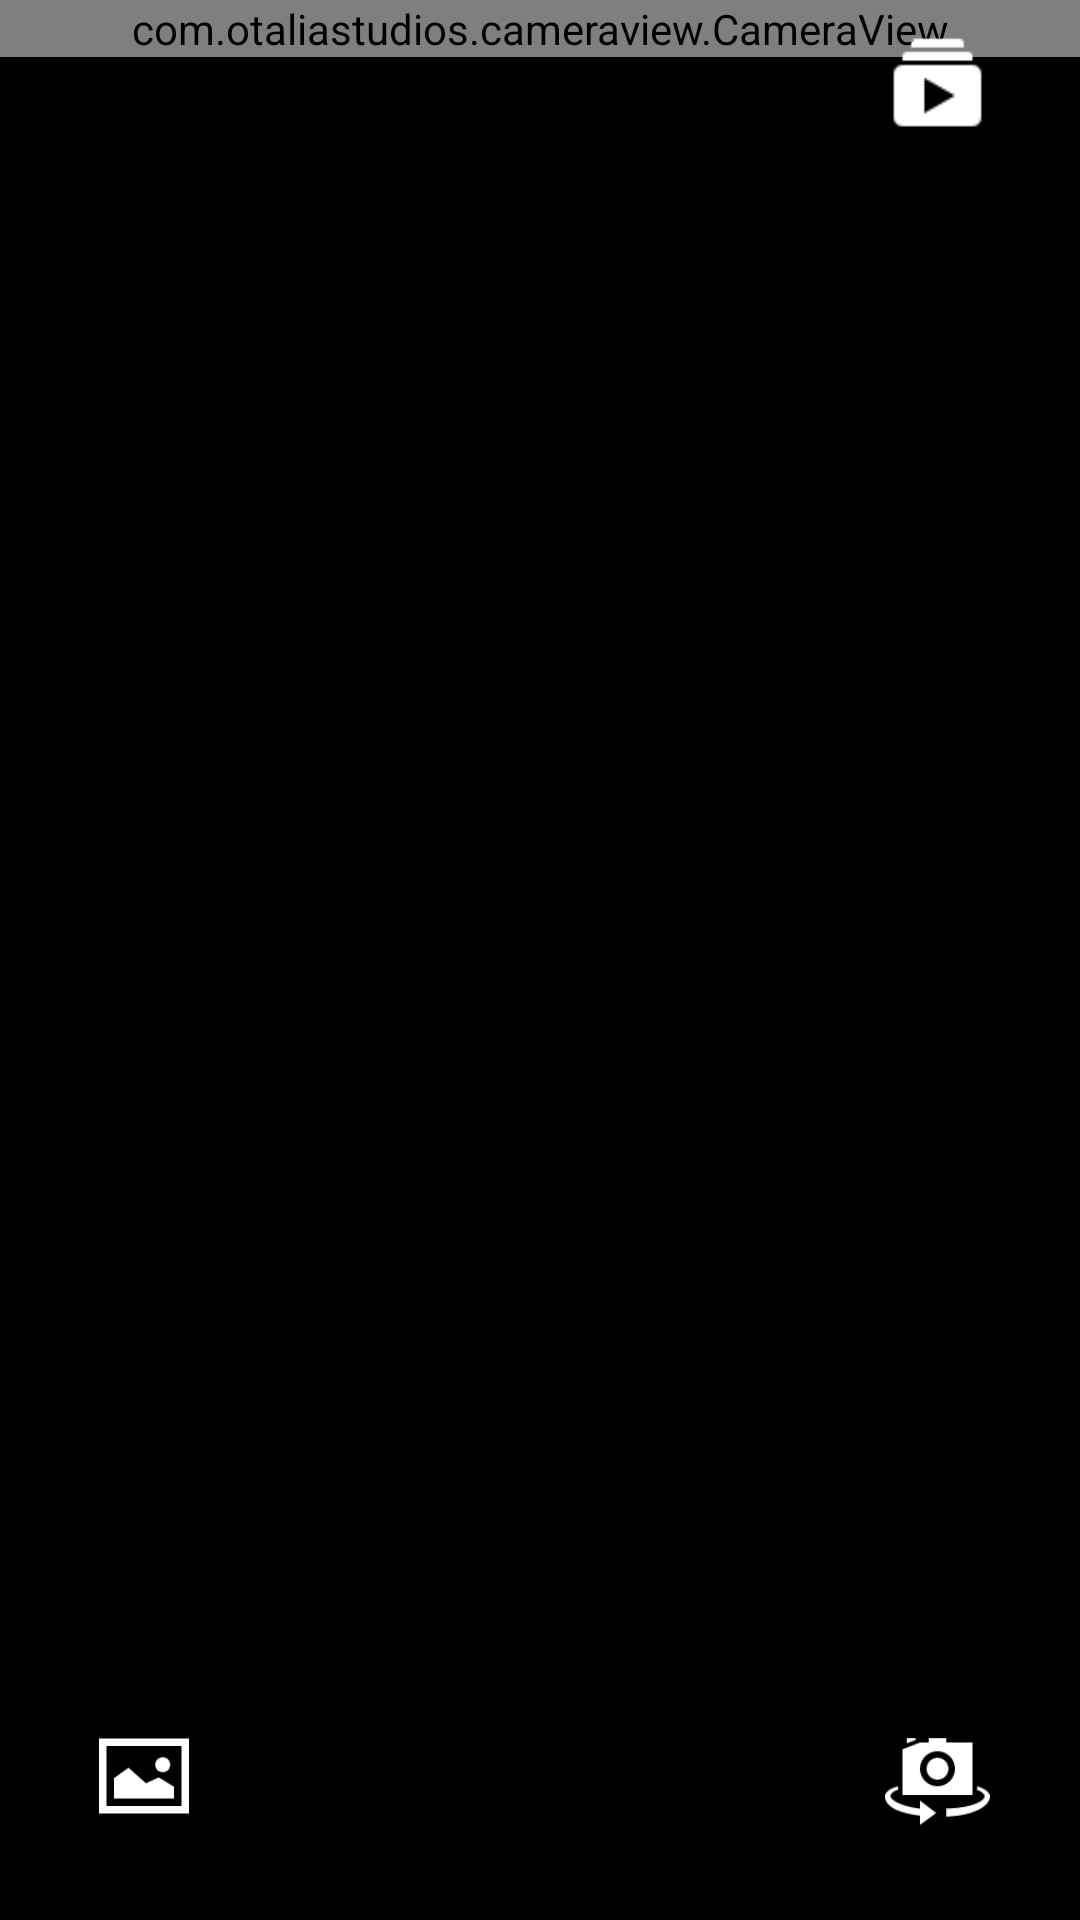

Screen size 1080x1920. Icon name, then its center in pixels as (x=x, y=y):
gallery: (x=144, y=1776)
library: (x=937, y=78)
switchcamera: (x=937, y=1781)
